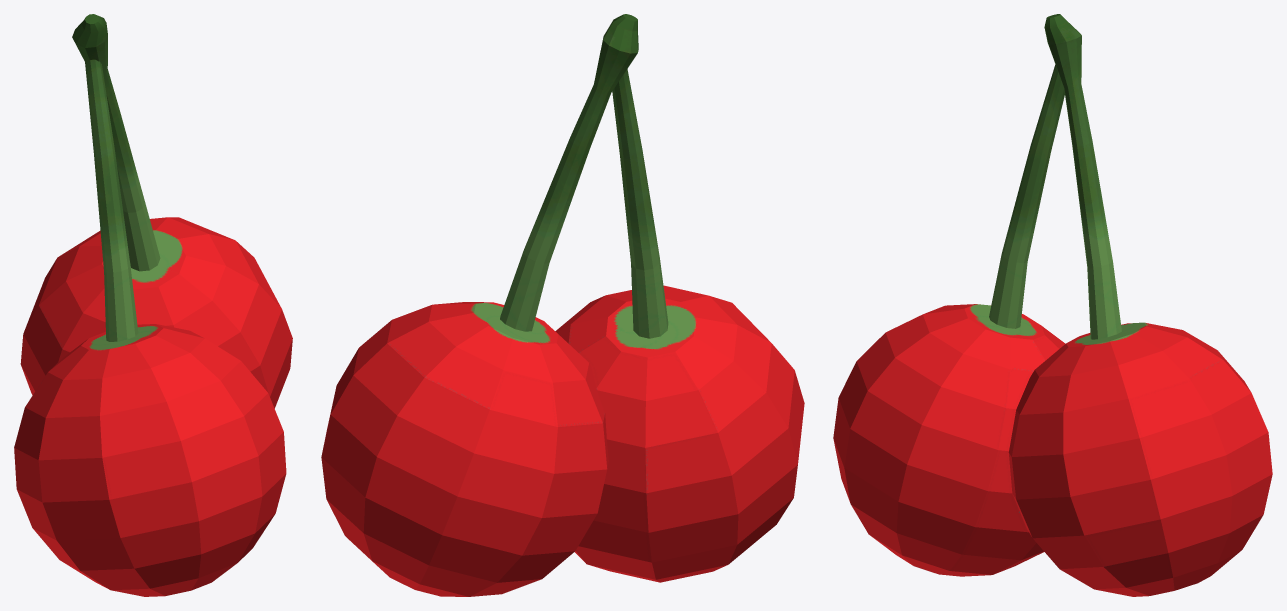
Rendered from cherries-painted.fbx.
The picture shows the model from 3 angles, left to right: view 1: azimuth 30°, elevation 25°; view 2: azimuth 150°, elevation 25°; view 3: azimuth 270°, elevation 25°; orthographic projection. The views are drawn at different scales.
Parts seen in each view (by area): view 1: node_id5, node_id7; view 2: node_id7, node_id5; view 3: node_id7, node_id5.
Part boxes in pixels (bbox=[...]): node_id5: bbox=[14, 59, 286, 596]; node_id7: bbox=[20, 14, 292, 408]; node_id7: bbox=[321, 14, 638, 596]; node_id5: bbox=[555, 69, 804, 582]; node_id7: bbox=[1008, 14, 1272, 596]; node_id5: bbox=[833, 64, 1065, 576].
Bounding box in the file's own units: 0.2805 × 0.4457 × 0.3268.
